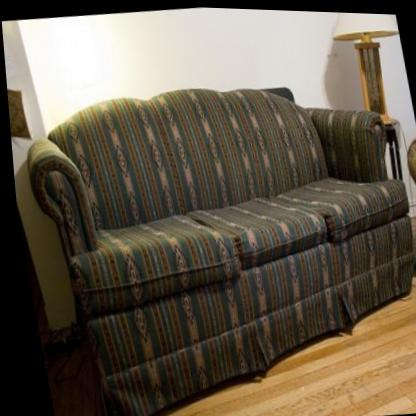Sofa: (16, 52, 416, 416)
